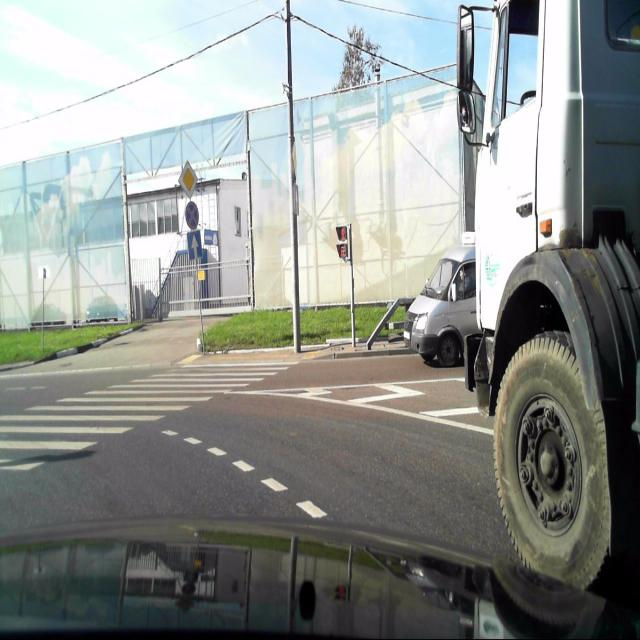road sign: (176, 158, 199, 199), (185, 229, 204, 260), (292, 179, 300, 217)
